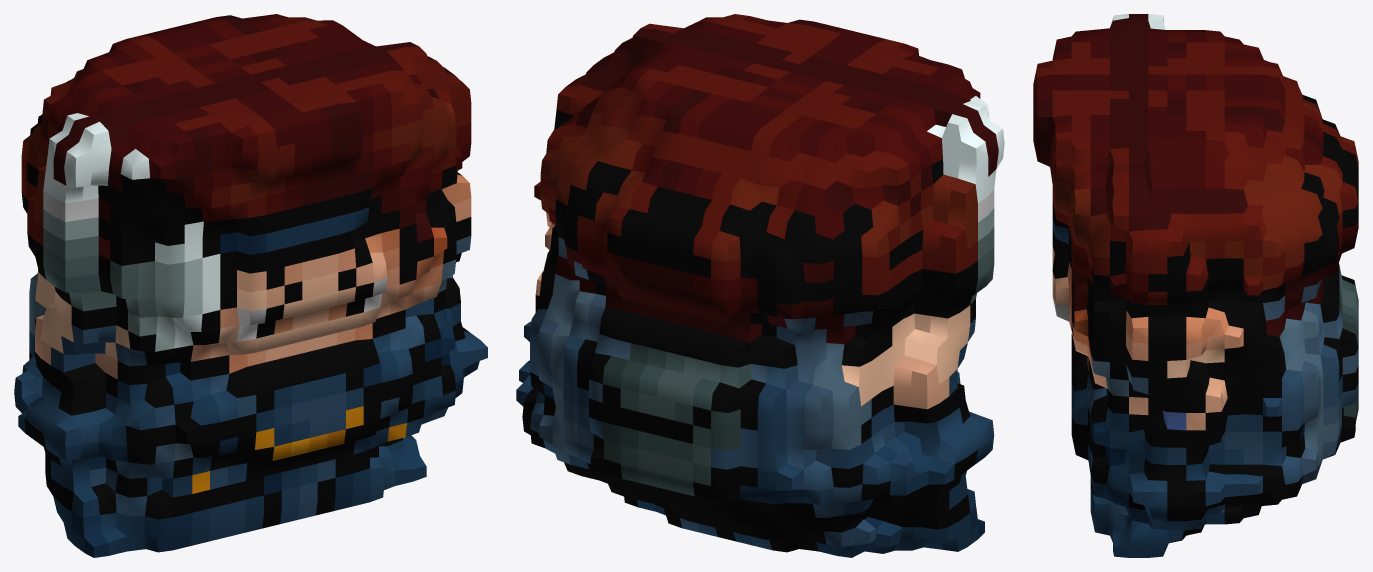
Rendered from Icon_213_02.obj.
The picture shows the model from 3 angles, left to right: view 1: azimuth 30°, elevation 25°; view 2: azimuth 150°, elevation 25°; view 3: azimuth 270°, elevation 25°; orthographic projection. The views are drawn at different scales.
Size of the model in its own units: 2.4 by 2.3 by 1.7.
